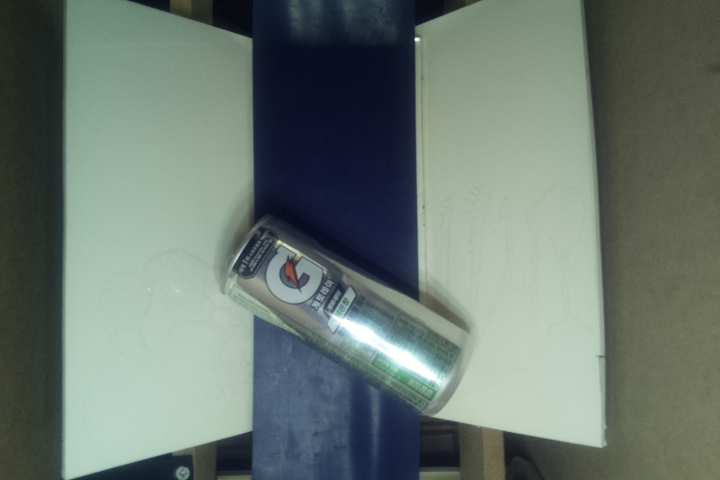can: (220, 216, 470, 421)
